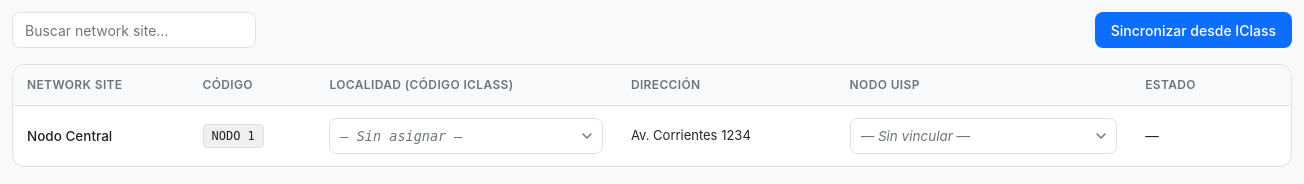
Test: UispNodeMappingBody › SCEN-FE-NM-06: saved indicator shown after success
Select "Site Alpha" in the dropdown named "Nodo UISP para Nodo Central" at (983,136), box [850, 118, 1117, 154]
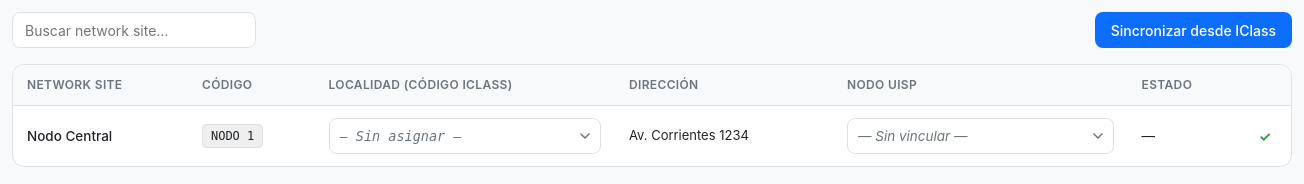
Check: the text named "guardado" is shown, box [1259, 128, 1271, 144]
